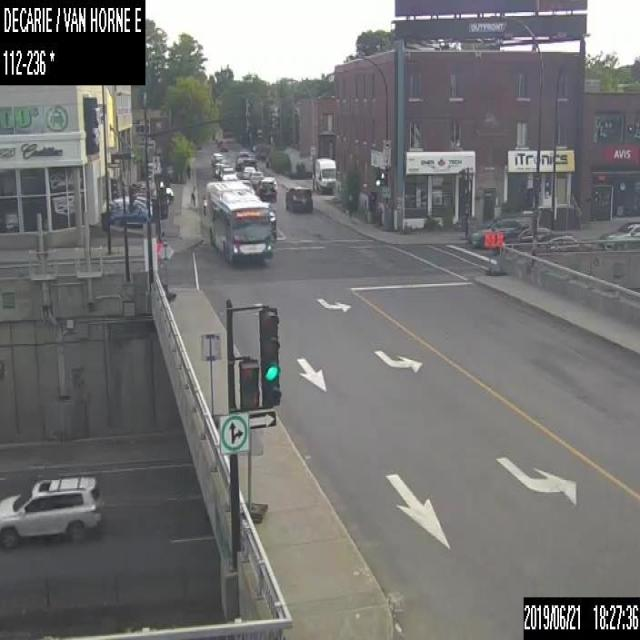bus: (202, 179, 273, 263)
construction: (199, 331, 227, 425), (238, 427, 266, 521), (156, 237, 174, 302), (494, 230, 504, 274), (484, 232, 494, 275)
pedestrian: (190, 184, 196, 208), (185, 162, 191, 178)
vehicle: (0, 473, 103, 548), (469, 216, 520, 246), (594, 218, 639, 248), (105, 204, 152, 226), (536, 232, 578, 252), (508, 222, 552, 241), (284, 185, 312, 212), (314, 156, 335, 192), (255, 176, 277, 202), (235, 150, 250, 170), (159, 180, 173, 200), (220, 165, 238, 179), (241, 157, 257, 170), (241, 165, 255, 179), (248, 170, 262, 184), (212, 161, 224, 175)
